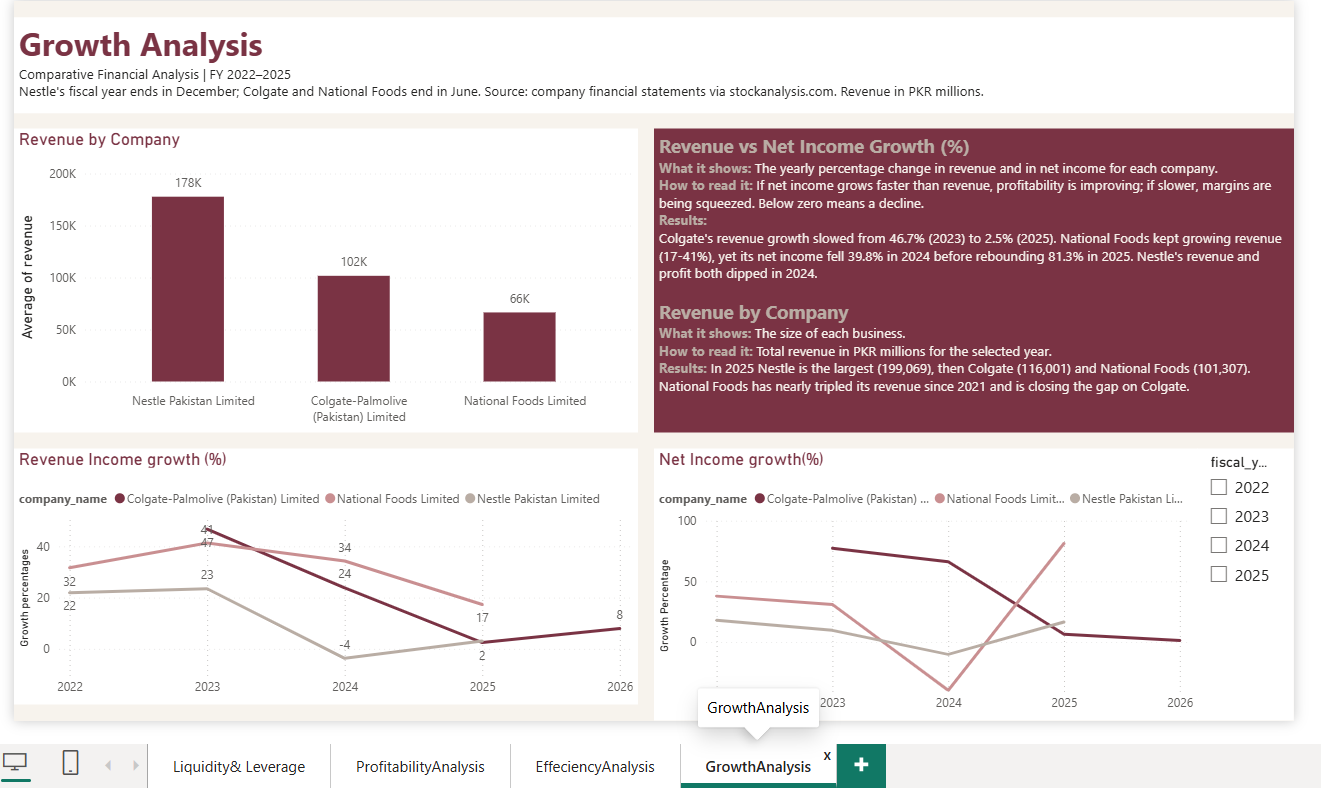

What the dashboard file says about the page in this screenshot:
{"tool":"powerbi","page":{"name":"GrowthAnalysis","canvas":[1280,720],"ordinal":3},"visuals":[{"type":"lineChart","title":"Revenue Income growth (%)","fields":{"Category":["public growth_ratios.fiscal_year"],"Y":["Avg(public growth_ratios.revenue_growth_pct)"],"Series":["public growth_ratios.company_name"]},"box":[0,448,624,256],"z":0},{"type":"clusteredColumnChart","title":"Revenue by Company","fields":{"Category":["public growth_ratios.company_name"],"Y":["Avg(public growth_ratios.revenue)"]},"box":[0,128,624,304],"z":1000},{"type":"textbox","box":[0,16,1280,96],"z":2000},{"type":"slicer","fields":{"Values":["Table.fiscal_year"]},"box":[1184,448,96,272],"z":3000},{"type":"lineChart","title":"Net Income growth(%)","fields":{"Category":["public growth_ratios.fiscal_year"],"Y":["Avg(public growth_ratios.net_income_growth_pct)"],"Series":["public growth_ratios.company_name"]},"box":[640,448,544,272],"z":4000},{"type":"textbox","box":[640,128,640,304],"z":4001}]}

Visuals, with their boxes on the page's 1280x720 design canvas (x1, y1, x2, y2). These are canvas units, not pixel positions in the 1321x788 screenshot, which may show the page scaled, cropped or inside an application window:
"Revenue Income growth (%)" lineChart: 0/448/624/704
"Revenue by Company" clusteredColumnChart: 0/128/624/432
textbox: 0/16/1280/112
slicer - Table.fiscal_year: 1184/448/1280/720
"Net Income growth(%)" lineChart: 640/448/1184/720
textbox: 640/128/1280/432
